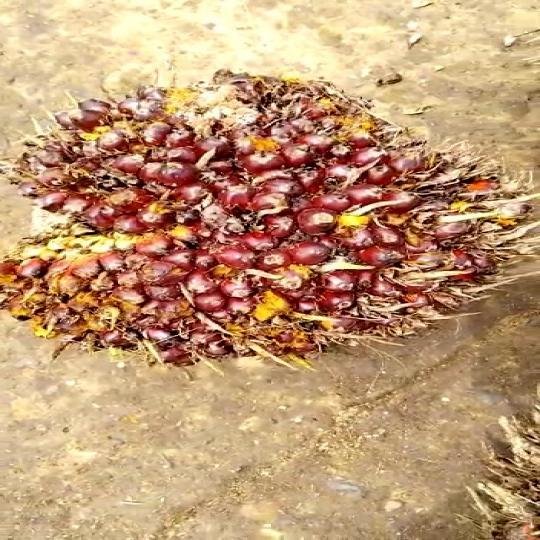masak: (0, 69, 519, 372)
